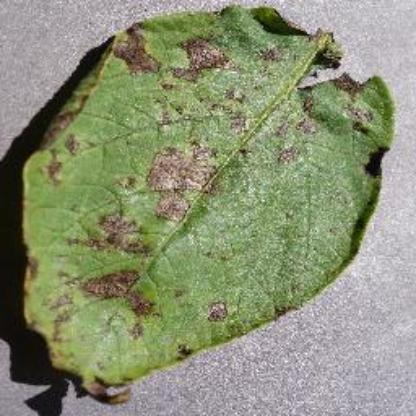Early-Blight: (13, 3, 398, 401)
